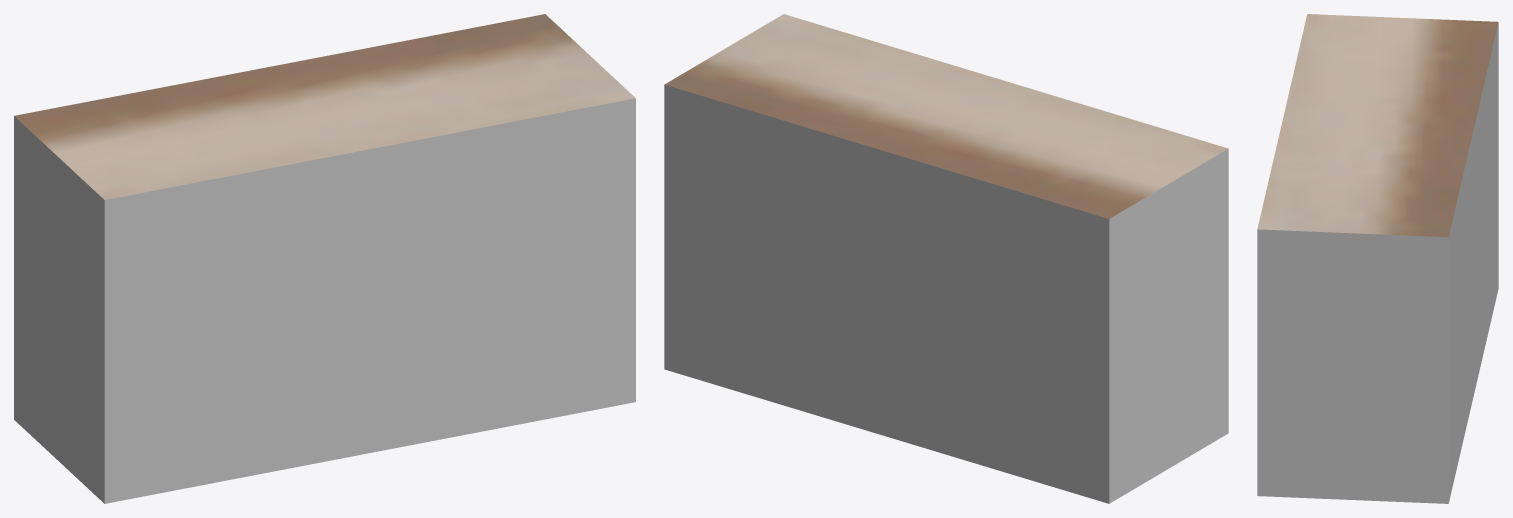
The model's file is DEBW_0010007THYA.gltf.
3 renders of one model, left to right at view 1: azimuth 30°, elevation 25°; view 2: azimuth 150°, elevation 25°; view 3: azimuth 270°, elevation 25°, orthographic. The views are drawn at different scales.
Parts seen in each view (by area): view 1: Z_UP; view 2: Z_UP; view 3: Z_UP.
Boxes of the visible parts, x1,y1,x2,y2 form: Z_UP: (14, 14, 635, 503); Z_UP: (664, 14, 1228, 503); Z_UP: (1257, 14, 1498, 503).
Bounding box in the file's own units: 6.24 × 3.48 × 2.85.
2 materials, 1 textured.
